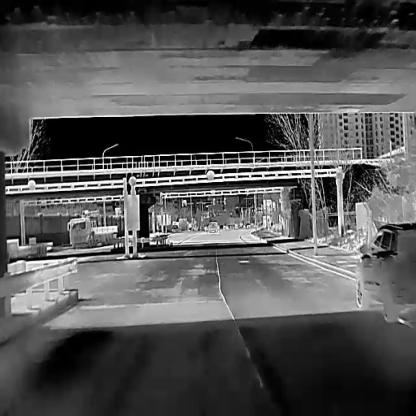car: (353, 219, 415, 322), (206, 221, 219, 233), (171, 224, 180, 233)
truck: (66, 215, 118, 247)
